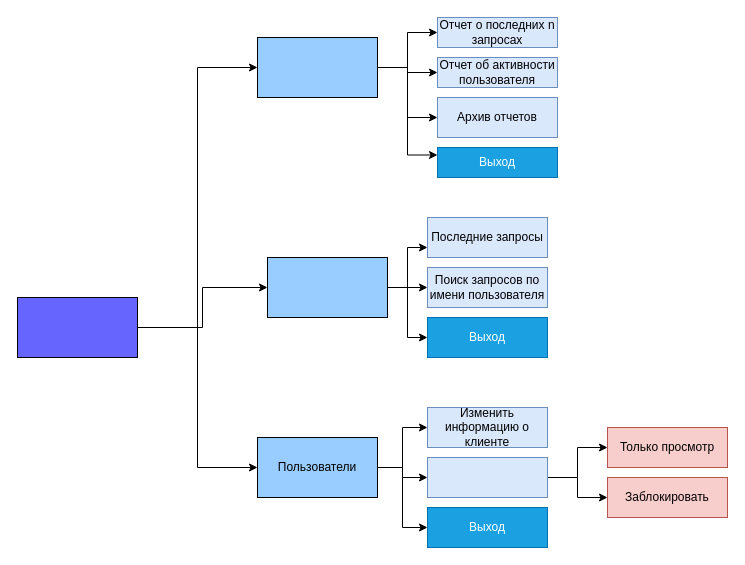
Image size: 745x565. Some labels were removed from this diagram. The shapes that lost their labels are listed below. From the top down, each one's centre as x and y in pixels, then its label:
At point (317, 67): "Отчеты".
At point (327, 287): "Запросы".
At point (77, 327): "Главное меню".
At point (487, 477): "Ограничить доступ пользователю".
